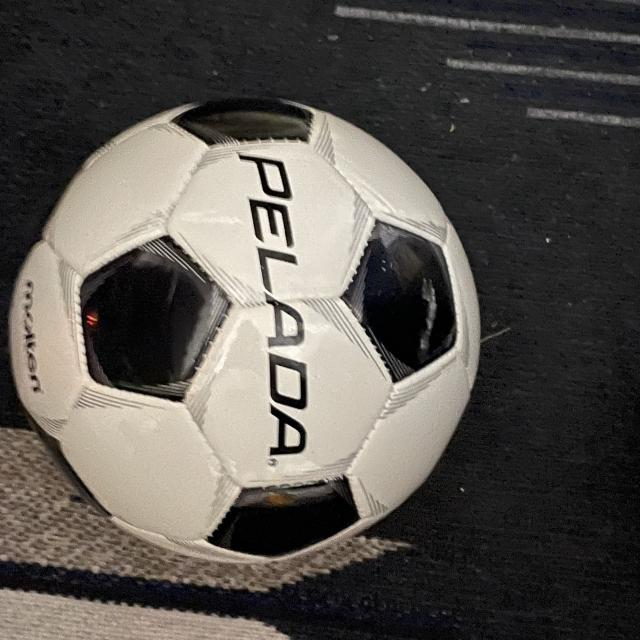ball: (11, 94, 482, 568)
